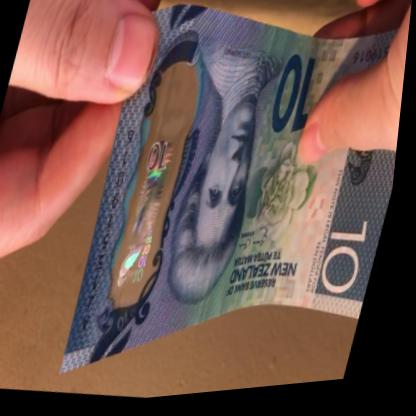10B: (114, 89, 198, 295)
